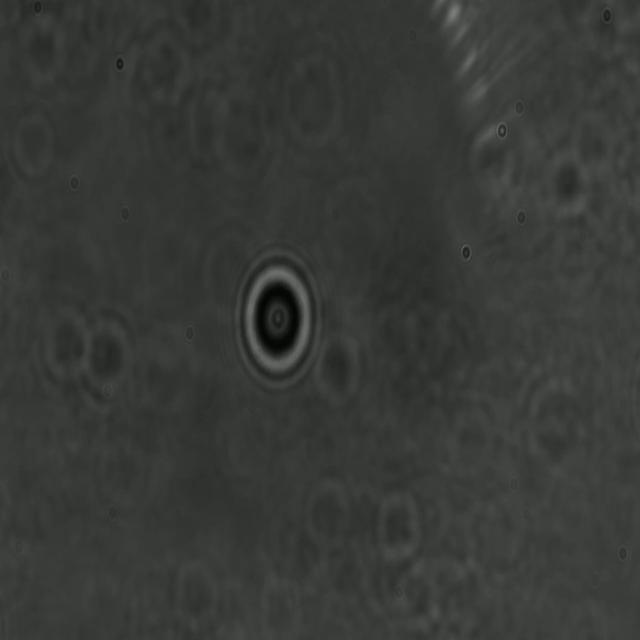LCELL: (229, 239, 325, 398)
